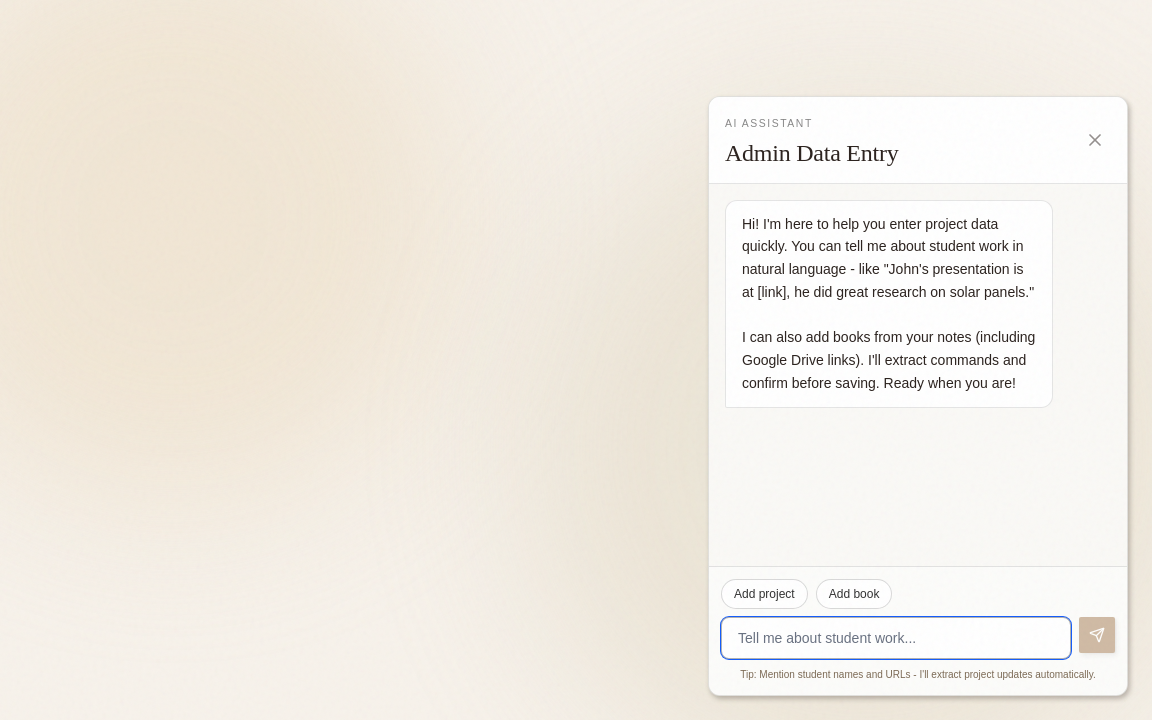
Scenario: ProjectDataChat › handles malformed project-data blocks without opening save preview
In the field with placeholder "Tell me about student work...": (896,638) [721,617,1071,659], type "John project update"
Then press Enter
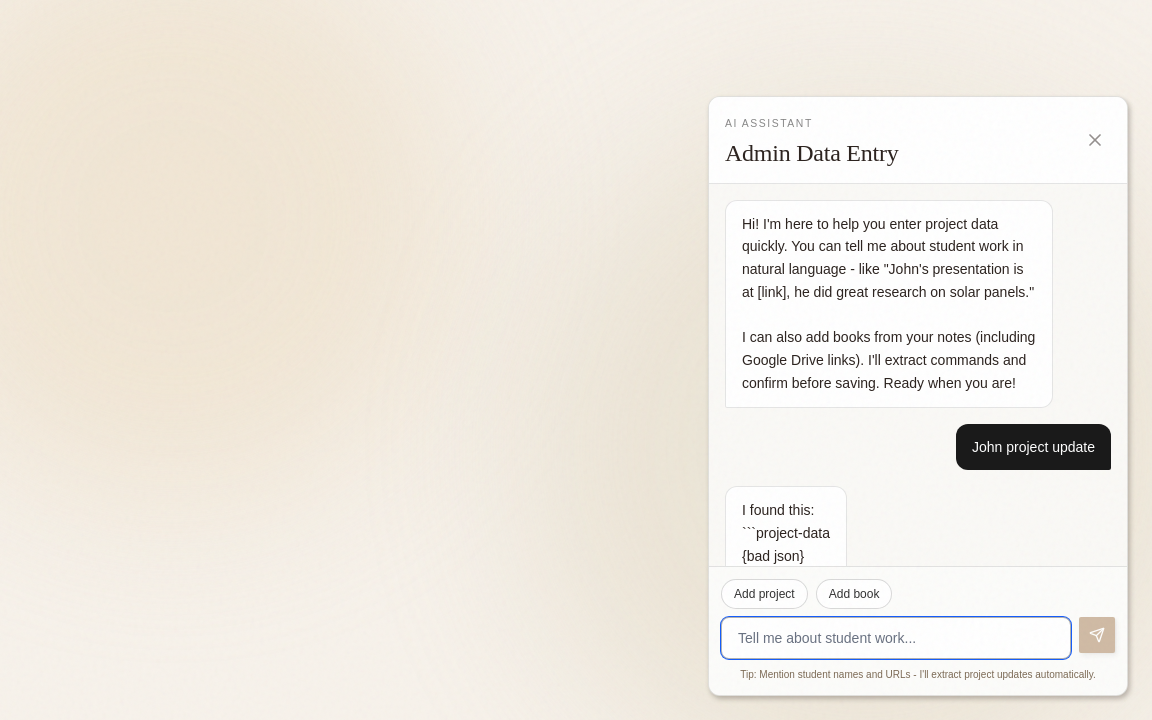
expect the text "I found this: ```project-data {bad json} ```" is shown: met, box [742,499,830,566]
